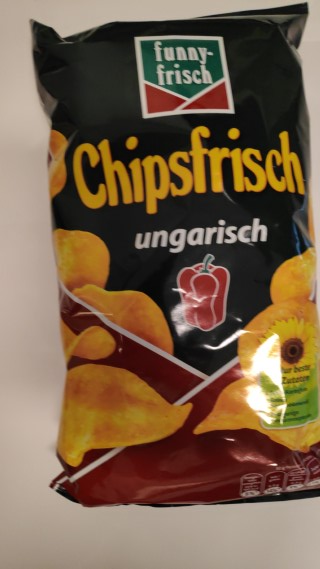chipsfrisch: (29, 2, 320, 509)
